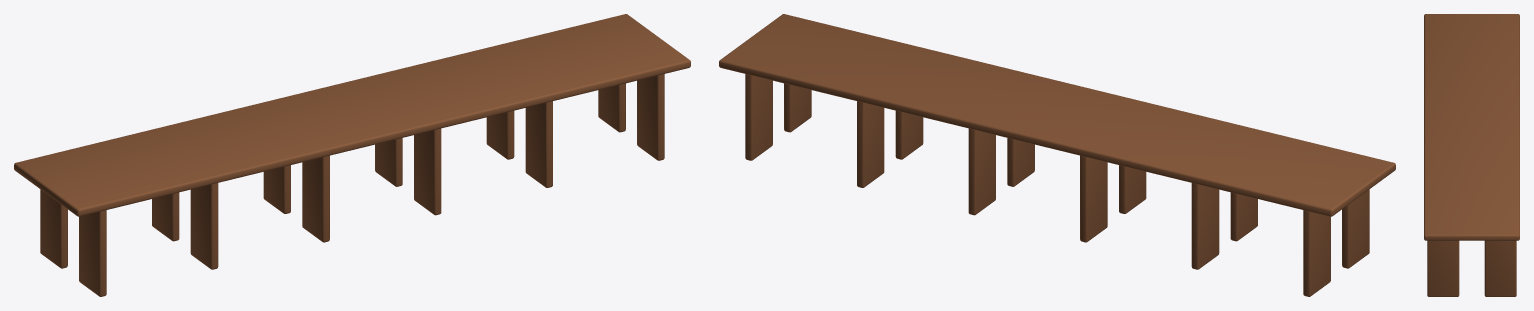
File: DiningTable5.fbx
3 renders of one model, left to right at view 1: azimuth 30°, elevation 25°; view 2: azimuth 150°, elevation 25°; view 3: azimuth 270°, elevation 25°, orthographic. The views are drawn at different scales.
Parts seen in each view (by area): view 1: DiningTable5; view 2: DiningTable5; view 3: DiningTable5.
Boxes of the visible parts, left/top/right/bottom form: DiningTable5: left=14, top=14, right=690, bottom=296; DiningTable5: left=719, top=14, right=1395, bottom=296; DiningTable5: left=1424, top=14, right=1519, bottom=296.
Bounding box in the file's own units: 373 × 55.47 × 68.02.
